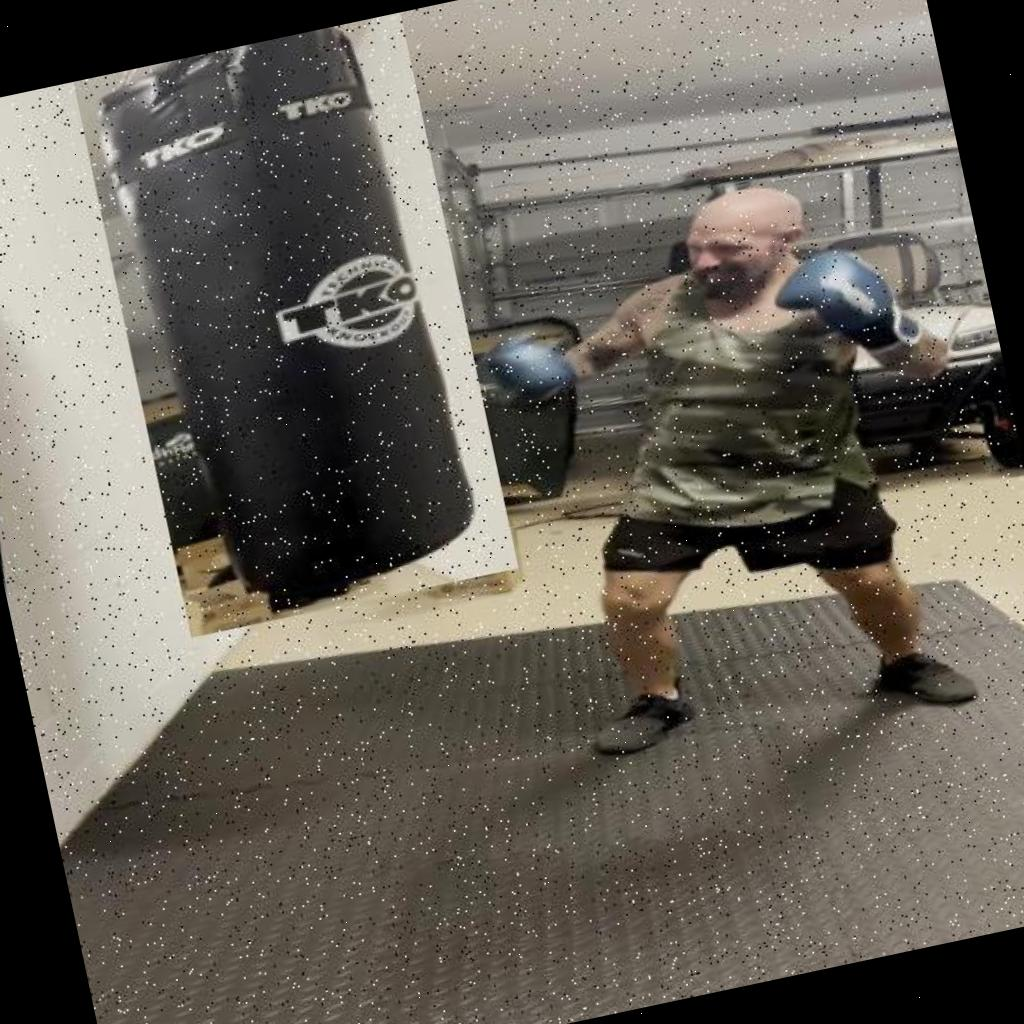bag: (73, 12, 518, 638)
hook: (354, 92, 960, 522)
